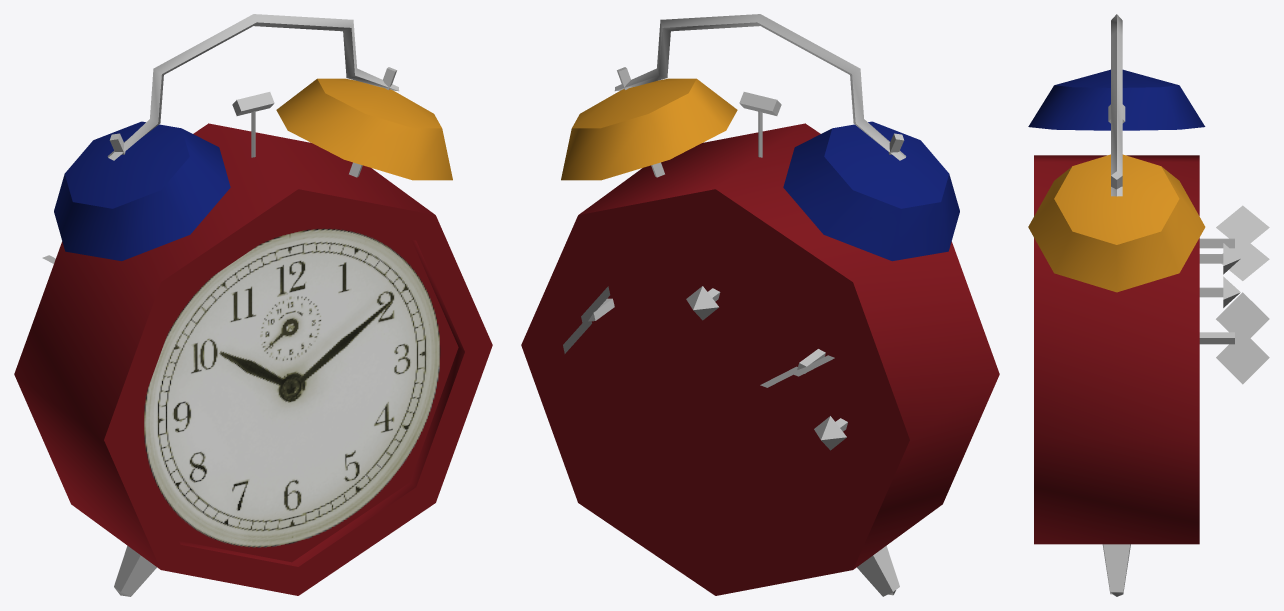
3 renders of one model, left to right at view 1: azimuth 30°, elevation 25°; view 2: azimuth 150°, elevation 25°; view 3: azimuth 270°, elevation 25°, orthographic. The views are drawn at different scales.
Parts seen in each view (by area): view 1: Face, Body, Bell, Bell_2, Bridge, Leg_Left, Cube; view 2: Body, Bell, Bell_2, Bridge, Leg_Left, Cube, Handle, Pyramid, Pyramid_2; view 3: Body, Bell_2, Bell, Handle, Handle_2, Bridge, Leg_Right, Post_3, Post_4.
Boxes of the visible parts, <box> form: Face: <box>132,218,458,562</box>; Body: <box>14,123,492,595</box>; Bell: <box>54,121,230,261</box>; Bell_2: <box>276,78,452,180</box>; Bridge: <box>107,14,399,160</box>; Leg_Left: <box>114,546,156,596</box>; Cube: <box>232,92,274,115</box>; Body: <box>521,123,999,595</box>; Bell: <box>783,121,959,261</box>; Bell_2: <box>561,78,737,180</box>; Bridge: <box>614,14,906,160</box>; Leg_Left: <box>857,546,899,596</box>; Cube: <box>739,92,781,115</box>; Handle: <box>563,286,610,353</box>; Pyramid: <box>814,416,846,450</box>; Pyramid_2: <box>686,286,718,320</box>; Body: <box>1034,155,1199,544</box>; Bell_2: <box>1028,154,1205,292</box>; Bell: <box>1028,69,1205,130</box>; Handle: <box>1216,292,1269,384</box>; Handle_2: <box>1216,205,1269,280</box>; Bridge: <box>1111,14,1122,196</box>; Leg_Right: <box>1102,544,1130,596</box>; Post_3: <box>1199,332,1234,344</box>; Post_4: <box>1199,238,1234,248</box>.
Bounding box in the file's own units: 350 × 473 × 204.
5 materials, 1 textured.
